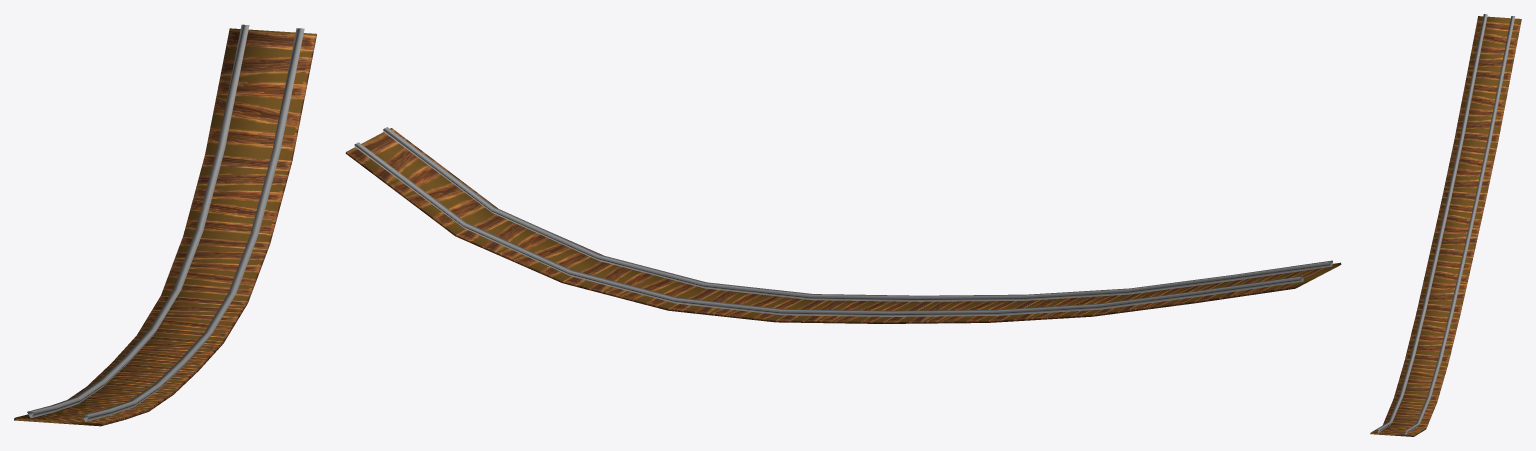
The model's file is SWORDLIGHT20_TRACK8.fbx.
The picture shows the model from 3 angles, left to right: view 1: azimuth 90°, elevation 25°; view 2: azimuth 150°, elevation 25°; view 3: azimuth 270°, elevation 25°; orthographic projection. The views are drawn at different scales.
Visible parts, largest first — view 1: SWORDLIGHT20_TRACK8; view 2: SWORDLIGHT20_TRACK8; view 3: SWORDLIGHT20_TRACK8.
Part boxes in pixels (box(x1,y1,x2,y2)): SWORDLIGHT20_TRACK8: box(14, 24, 316, 426); SWORDLIGHT20_TRACK8: box(345, 127, 1341, 323); SWORDLIGHT20_TRACK8: box(1370, 14, 1521, 436).
Size of the model in its own units: 269336 by 60937 by 55763.
2 materials, 2 textured.
